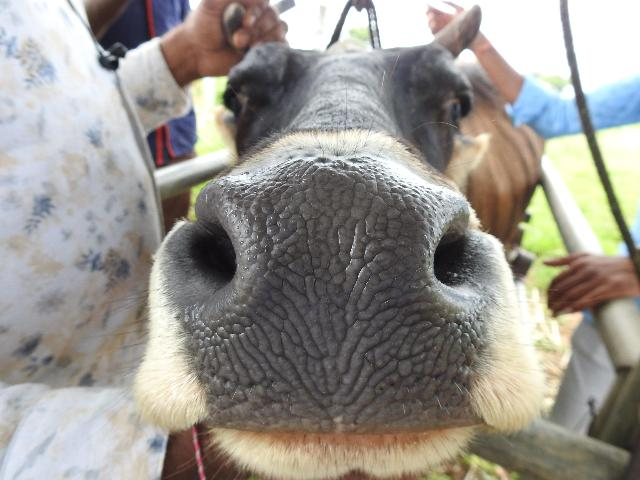Muzzle: (199, 174, 481, 426)
